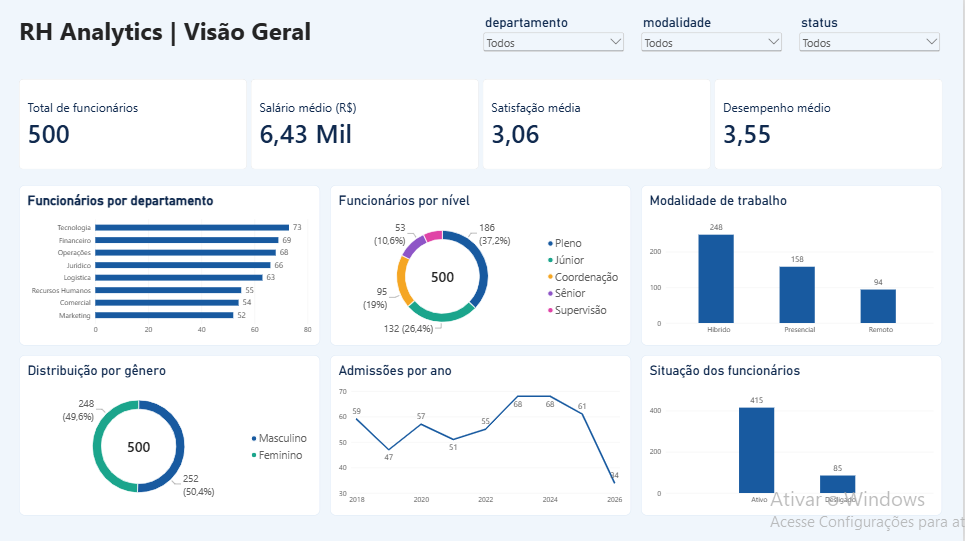

What the dashboard file says about the page in this screenshot:
{"tool":"powerbi","page":{"name":"Visão Geral","canvas":[1920,1080],"ordinal":0},"visuals":[{"type":"cardVisual","fields":{"Data":["Count(public vw_rh_funcionarios.id_funcionario)","Avg(public vw_rh_funcionarios.salario)","Avg(public vw_rh_funcionarios.satisfacao)","Avg(public vw_rh_funcionarios.avaliacao_desempenho)"]},"box":[40,160,1840,180],"z":0},{"type":"clusteredBarChart","title":"Funcionários por departamento","fields":{"Category":["public vw_rh_funcionarios.departamento"],"Y":["Count(public vw_rh_funcionarios.id_funcionario)"]},"box":[40,370,600,320],"z":1},{"type":"donutChart","title":"Funcionários por nível","fields":{"Category":["public vw_rh_funcionarios.nivel"],"Y":["Count(public vw_rh_funcionarios.id_funcionario)"]},"box":[660,370,600,320],"z":2},{"type":"clusteredColumnChart","title":"Modalidade de trabalho","fields":{"Category":["public vw_rh_funcionarios.modalidade"],"Y":["Count(public vw_rh_funcionarios.id_funcionario)"]},"box":[1280,370,600,320],"z":3},{"type":"donutChart","title":"Distribuição por gênero","fields":{"Category":["public vw_rh_funcionarios.genero"],"Y":["Count(public vw_rh_funcionarios.id_funcionario)"]},"box":[40,710,600,320],"z":4},{"type":"lineChart","title":"Admissões por ano","fields":{"Category":["public vw_rh_funcionarios.ano_admissao"],"Y":["Count(public vw_rh_funcionarios.id_funcionario)"]},"box":[660,710,600,320],"z":5},{"type":"clusteredColumnChart","title":"Situação dos funcionários","fields":{"Category":["public vw_rh_funcionarios.status"],"Y":["Count(public vw_rh_funcionarios.id_funcionario)"]},"box":[1280,710,600,320],"z":6},{"type":"textbox","box":[40,30,850,100],"z":7},{"type":"slicer","fields":{"Values":["public vw_rh_funcionarios.departamento"]},"box":[960,30,290,100],"z":8},{"type":"slicer","fields":{"Values":["public vw_rh_funcionarios.modalidade"]},"box":[1275,30,290,100],"z":9},{"type":"slicer","fields":{"Values":["public vw_rh_funcionarios.status"]},"box":[1590,30,290,100],"z":10}]}

Visuals, with their boxes in screenshot pixels (x1, y1, x2, y2), scaled from the page's 1920x1080 canvas onto the 965x541 screenshot:
cardVisual - Count(public vw_rh_funcionarios.id_funcionario) x Avg(public vw_rh_funcionarios.salario): rect(20, 80, 945, 170)
"Funcionários por departamento" clusteredBarChart: rect(20, 185, 322, 346)
"Funcionários por nível" donutChart: rect(332, 185, 633, 346)
"Modalidade de trabalho" clusteredColumnChart: rect(643, 185, 945, 346)
"Distribuição por gênero" donutChart: rect(20, 356, 322, 516)
"Admissões por ano" lineChart: rect(332, 356, 633, 516)
"Situação dos funcionários" clusteredColumnChart: rect(643, 356, 945, 516)
textbox: rect(20, 15, 447, 65)
slicer - public vw_rh_funcionarios.departamento: rect(482, 15, 628, 65)
slicer - public vw_rh_funcionarios.modalidade: rect(641, 15, 787, 65)
slicer - public vw_rh_funcionarios.status: rect(799, 15, 945, 65)
